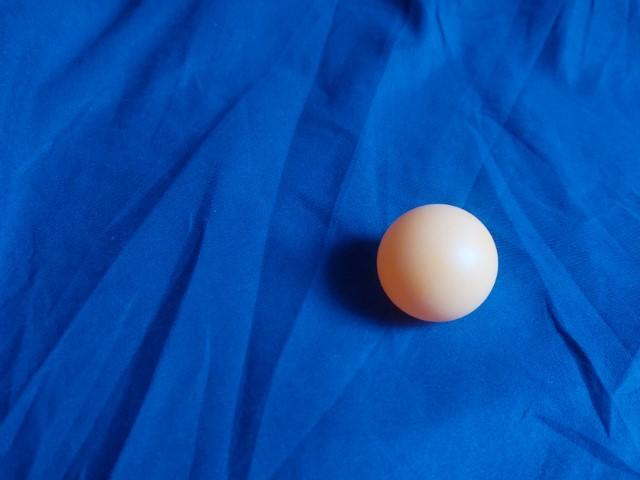oball: (368, 199, 504, 326)
